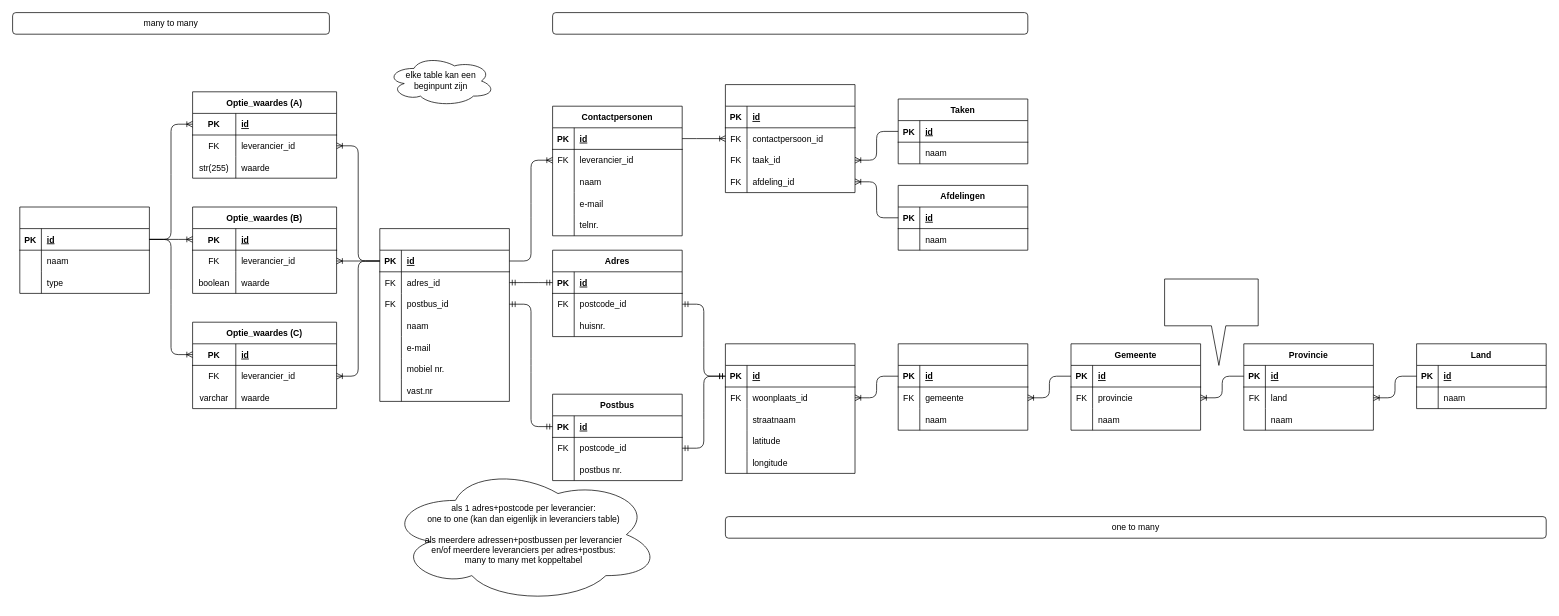
Image size: 1559x616. Some labels were removed from this diagram. Each missing label, with the box of its shape:
bij many to one: PK van one wijst naar FK van many: (1164, 278, 1258, 365)
Leveranciers: (379, 228, 509, 401)
many to many to many: (552, 12, 1028, 34)
Opties_beschrijvingen: (19, 206, 149, 293)
Postcode: (725, 343, 855, 473)
Table: (725, 84, 855, 193)
Woonplaats: (897, 343, 1028, 430)
